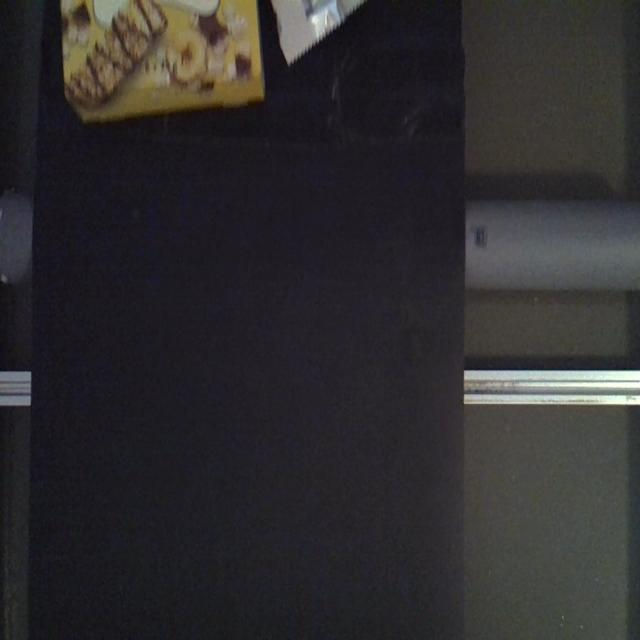carton: (58, 2, 268, 128)
packaging-soft-plastic: (272, 0, 366, 71)
